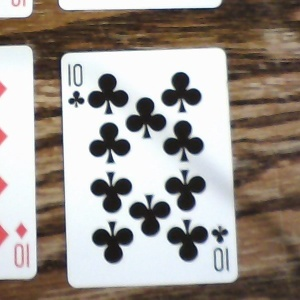card: (59, 46, 240, 288)
